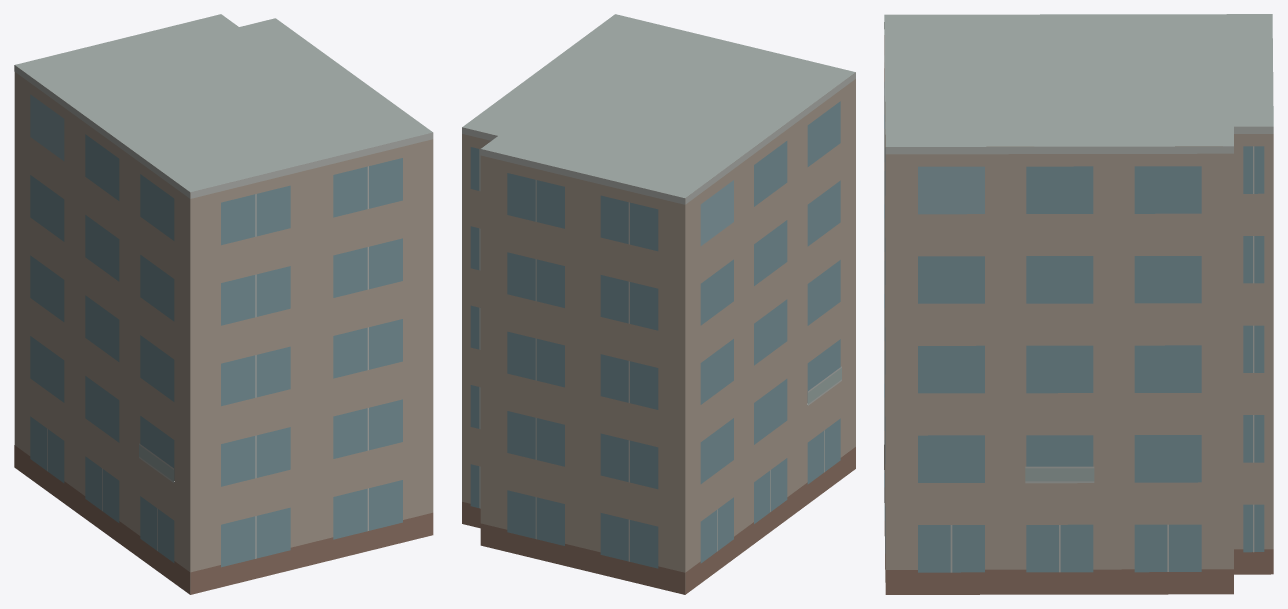
File: survey-upis-32749164.glb
The picture shows the model from 3 angles, left to right: view 1: azimuth 30°, elevation 25°; view 2: azimuth 150°, elevation 25°; view 3: azimuth 270°, elevation 25°; orthographic projection. The views are drawn at different scales.
Visible parts, largest first — view 1: survey-upis-32749164.tmp; view 2: survey-upis-32749164.tmp; view 3: survey-upis-32749164.tmp.
Boxes of the visible parts, x1,y1,x2,y2 form: survey-upis-32749164.tmp: (14,14,433,594); survey-upis-32749164.tmp: (462,14,855,594); survey-upis-32749164.tmp: (884,14,1273,594).
Bounding box in the file's own units: 9.42 × 14.75 × 11.63.
